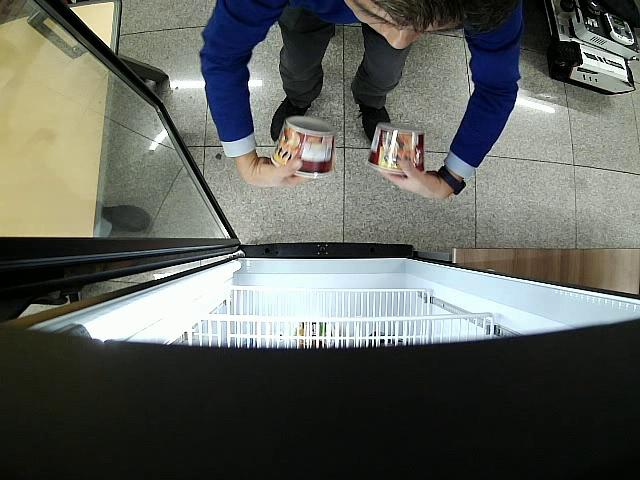00_hand: (379, 160, 449, 201), (235, 157, 309, 188)
05_nuguri_L: (272, 116, 336, 179), (365, 123, 425, 175)
